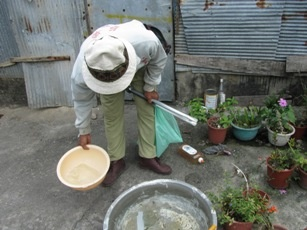bottle: (176, 143, 206, 167), (202, 86, 219, 113), (217, 78, 228, 106)
bowl: (102, 177, 219, 230), (56, 144, 112, 190)
